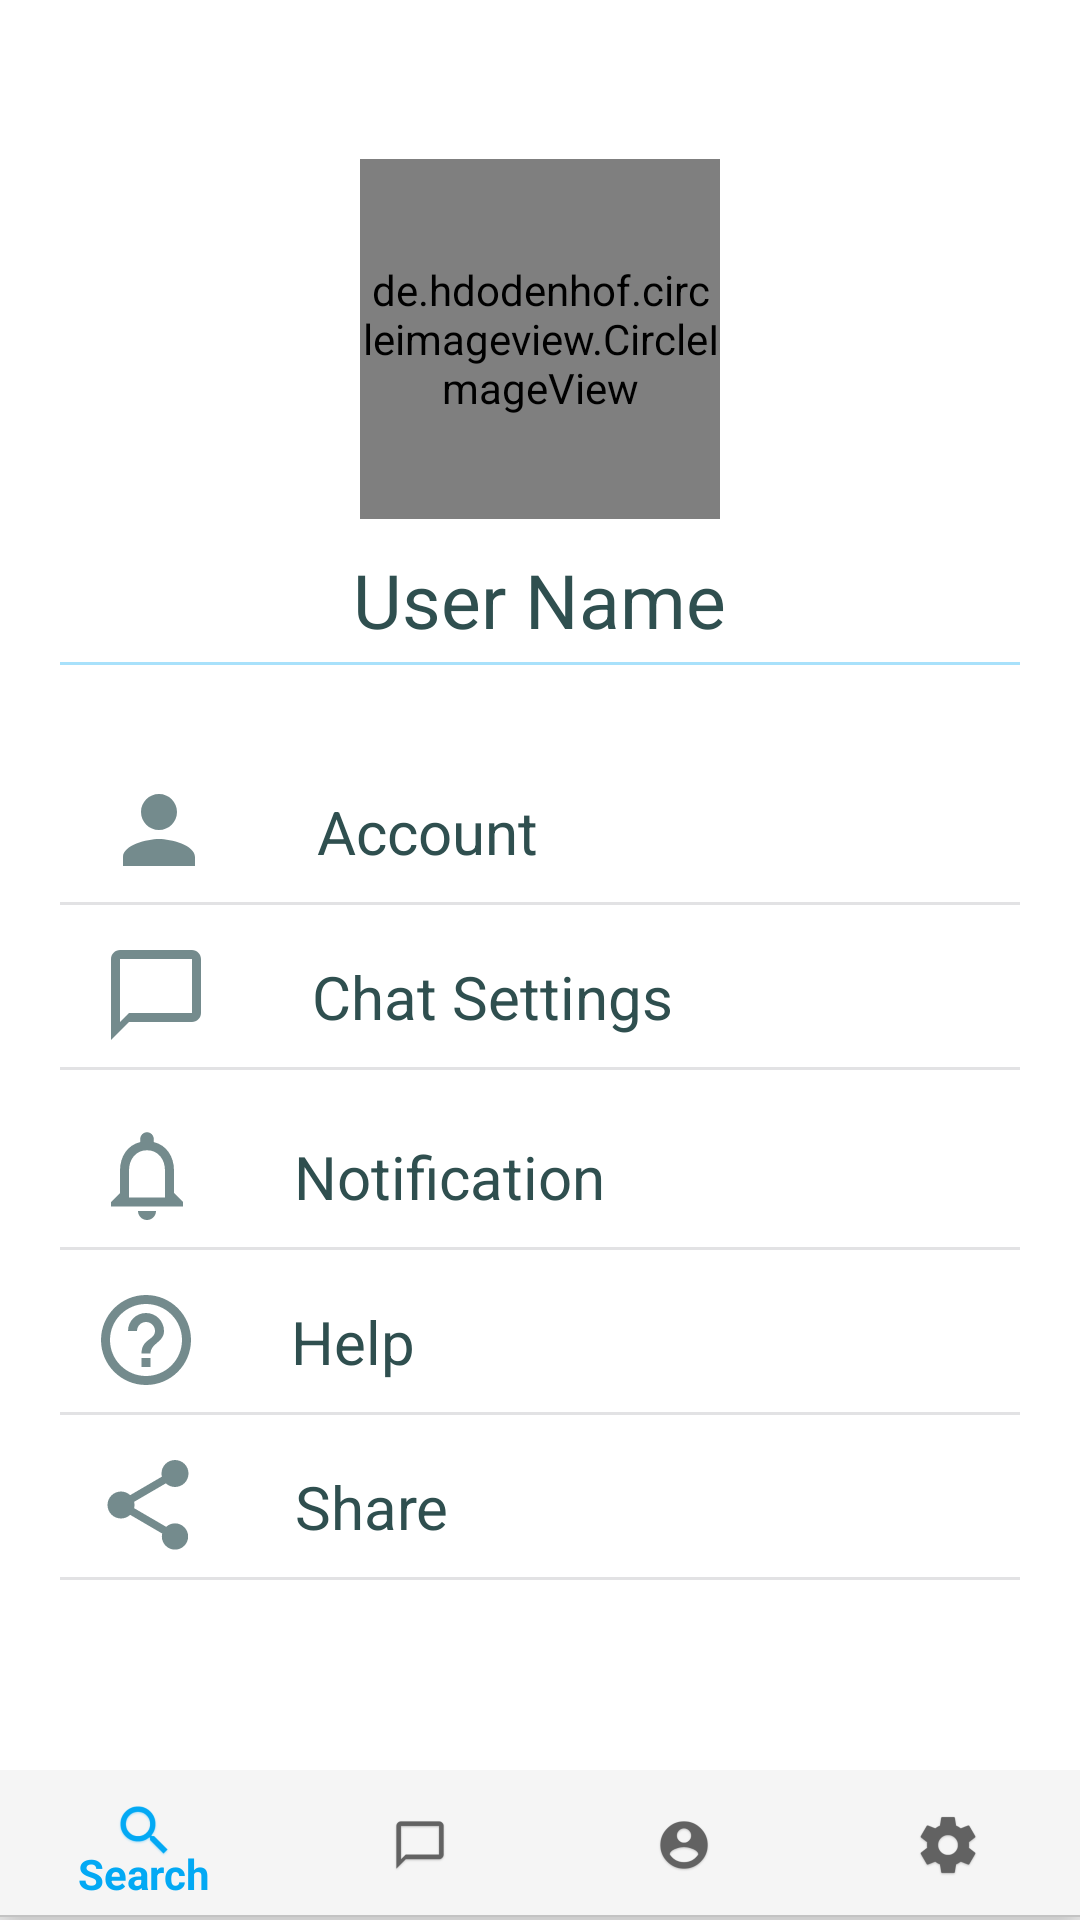

Where icons sit on this 1080x1920 app screen, as (x1, y1, x2, y2):
chat bubble: (111, 950, 201, 1040)
